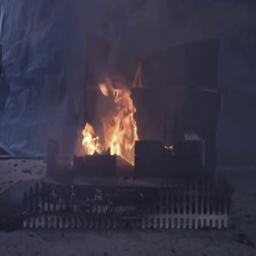fire: (69, 75, 151, 174)
